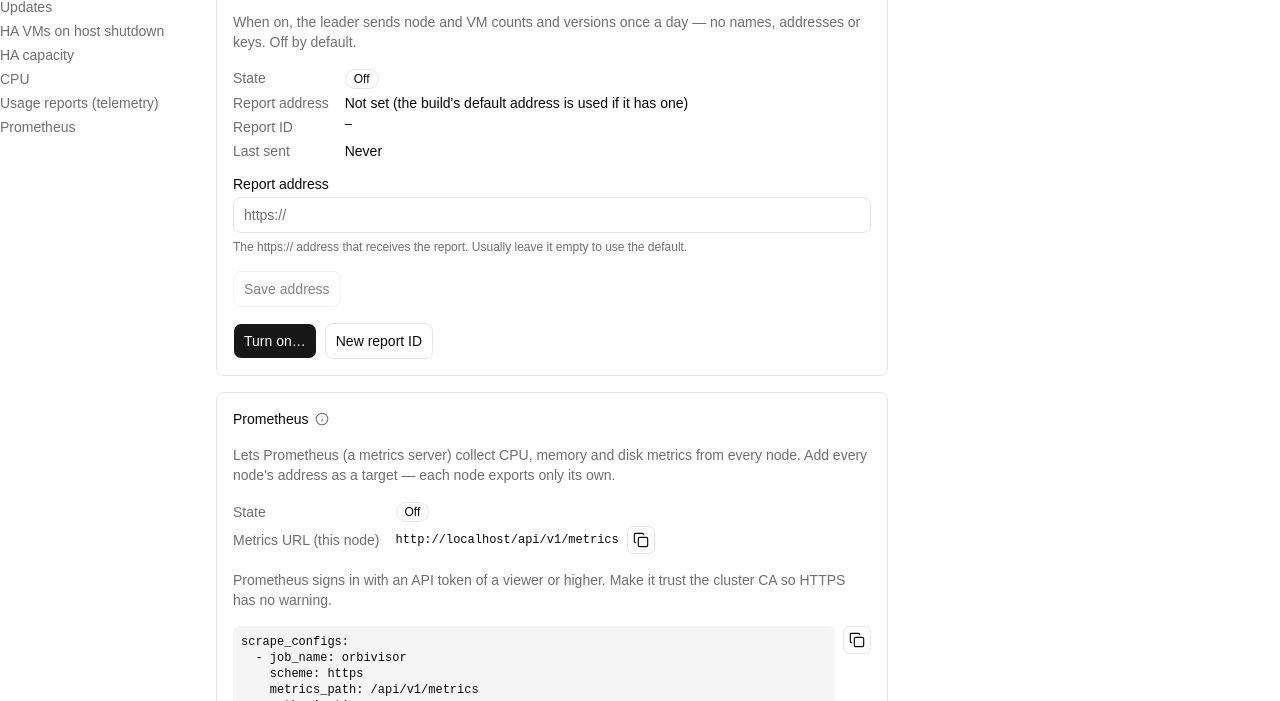
it: shows the report before turning telemetry on
(page scrolled)
Expected: the 1st icon "Off" is shown, top-left (345, 69), bottom-right (378, 89)
Expected: the text "Not set (the build's default address is used if it has one)" is shown, top-left (345, 95), bottom-right (688, 111)
# 처음에는 취소한다: 켜지 않는다.
Click the button "Turn on…" at (275, 341), box top-left (233, 323), bottom-right (317, 359)
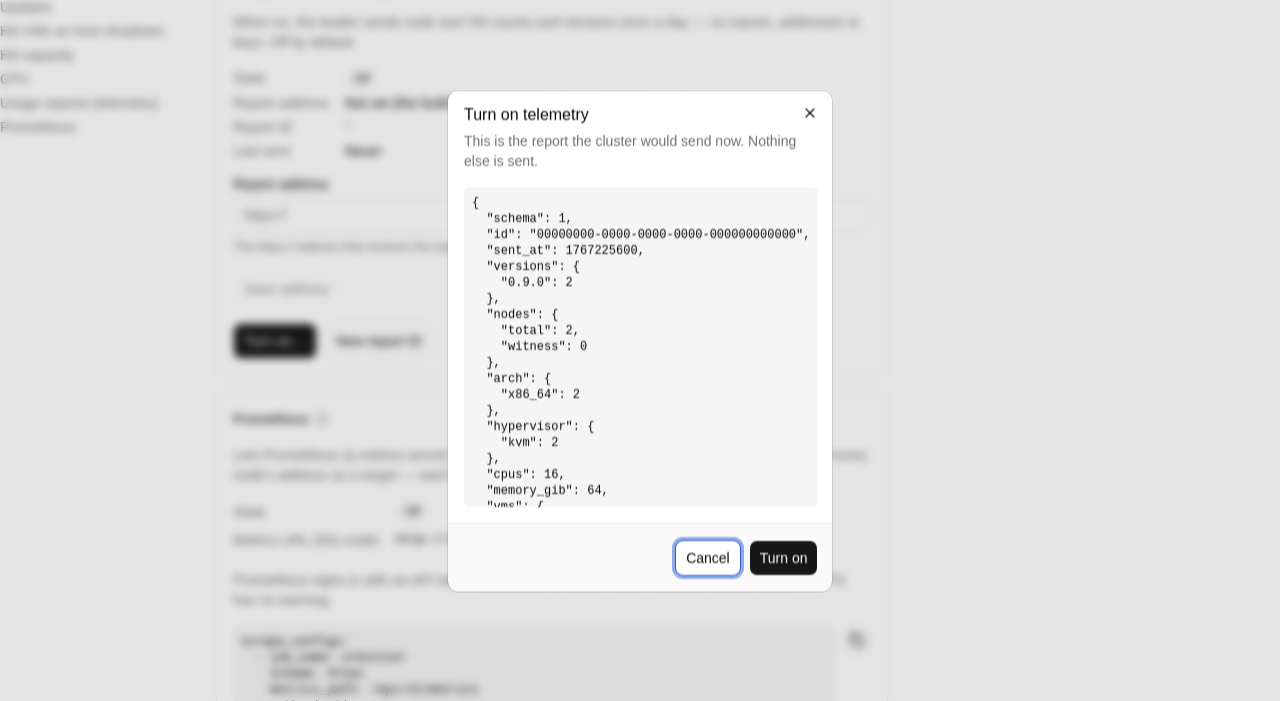
Click the button "Cancel" at (708, 558), box top-left (675, 540), bottom-right (741, 576)
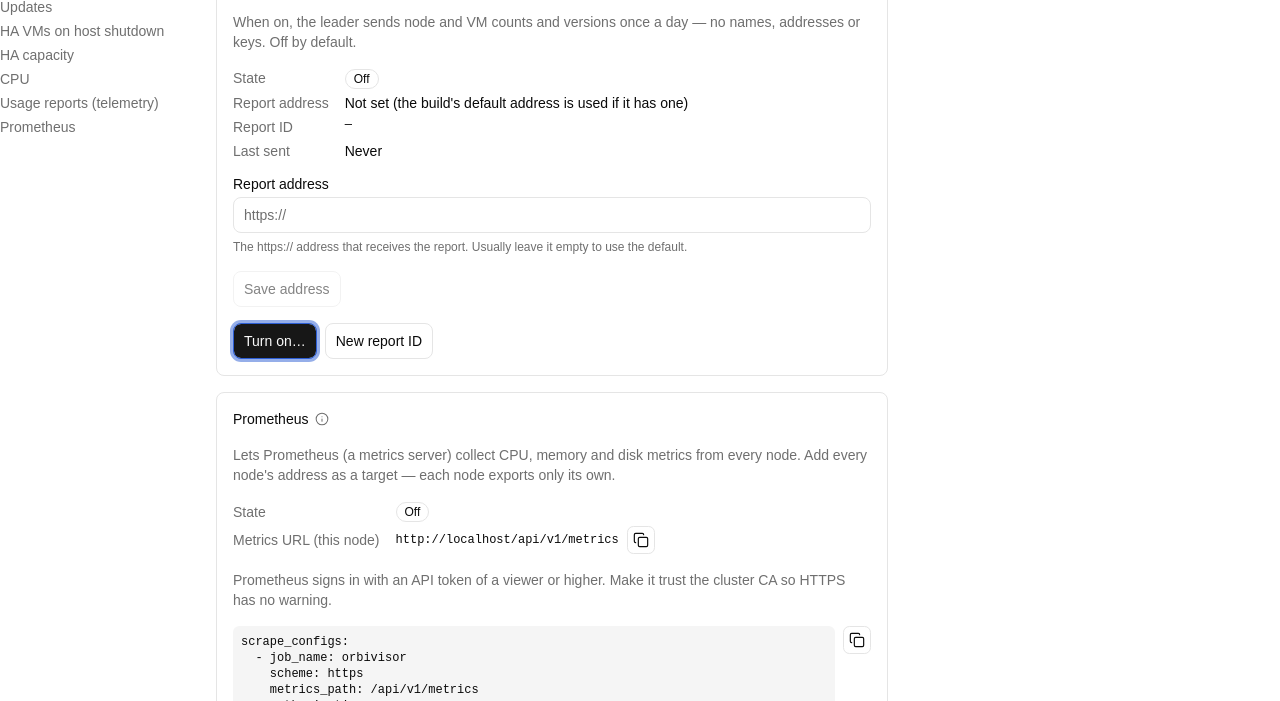
Expected: the dialog is gone
Click the button "Turn on…" at (275, 341), box top-left (233, 323), bottom-right (317, 359)
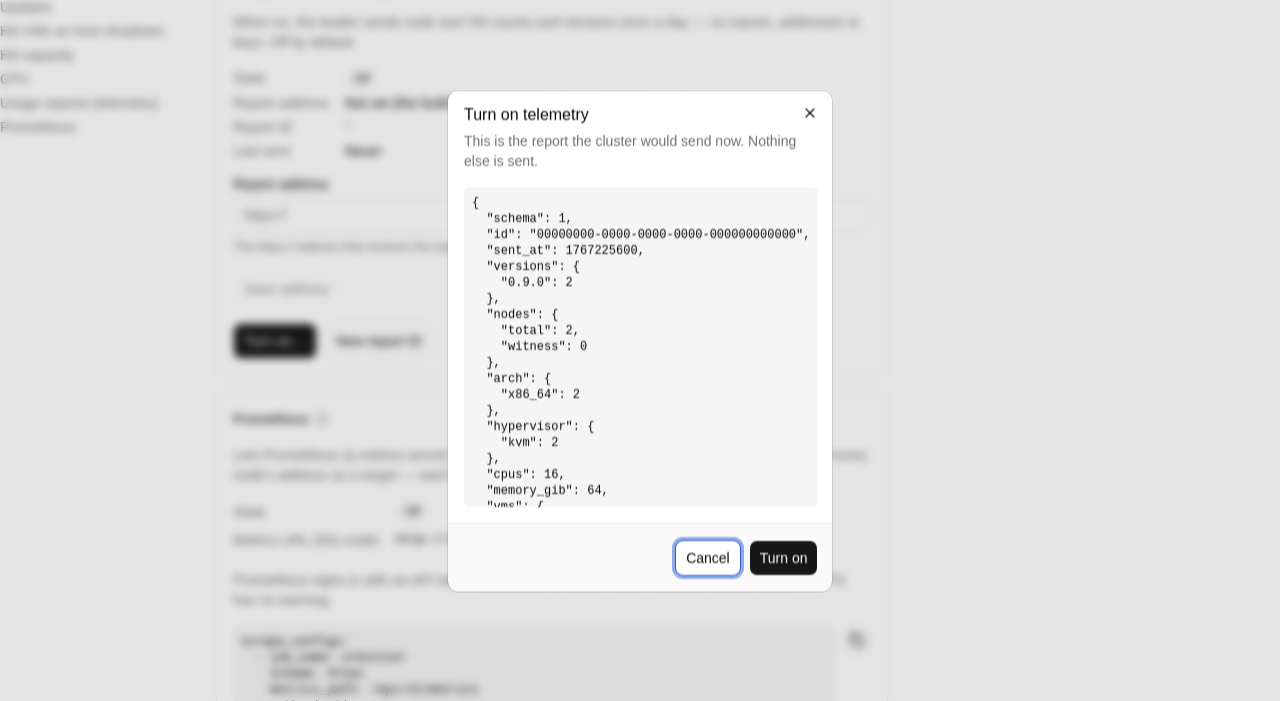
Click the button "Turn on" at (784, 558), box top-left (749, 540), bottom-right (818, 576)
(page scrolled)
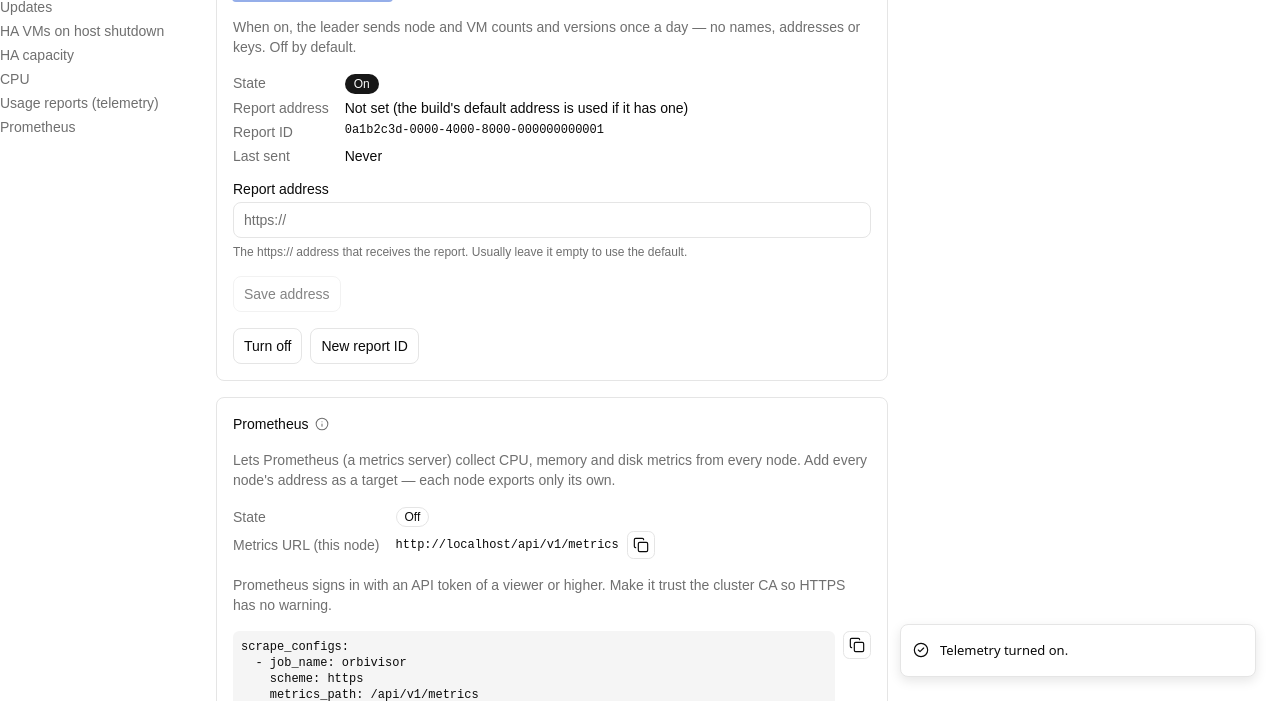
Expected: the text "Telemetry turned on." is shown, top-left (940, 640), bottom-right (1068, 660)
